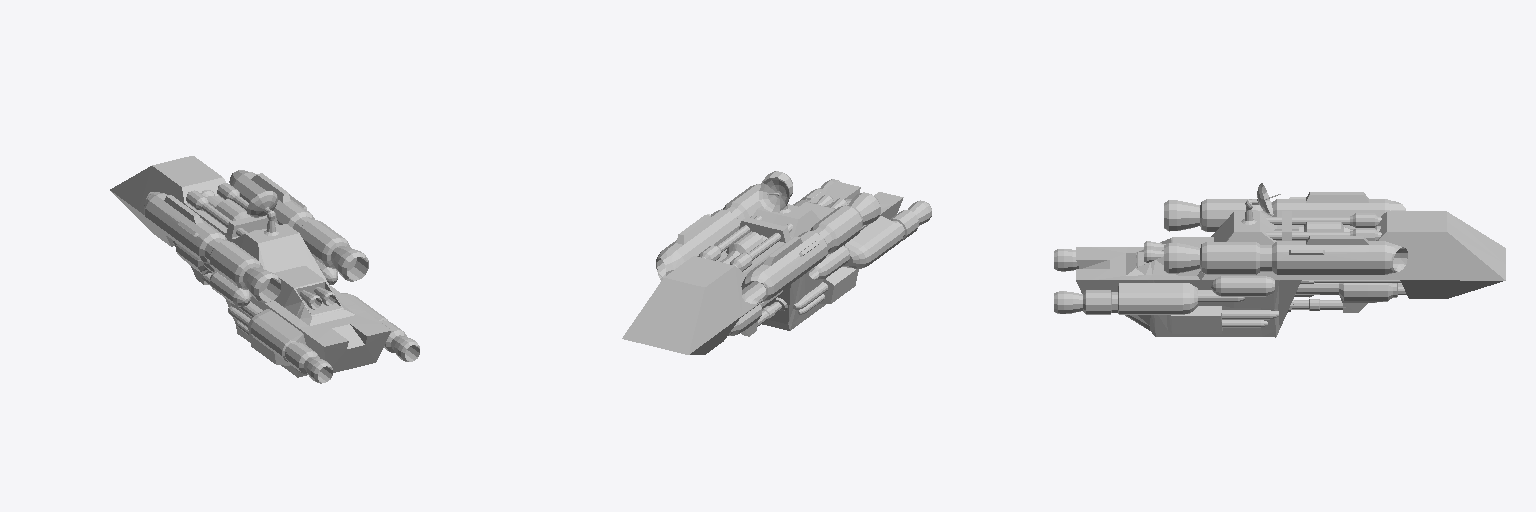
File: XCRXtarsus.obj
3 renders of one model, left to right at view 1: azimuth 30°, elevation 25°; view 2: azimuth 150°, elevation 25°; view 3: azimuth 270°, elevation 25°, orthographic.
Parts seen in each view (by area): view 1: obj.XCRXtarsus.000_Cylinder.001; view 2: obj.XCRXtarsus.000_Cylinder.001; view 3: obj.XCRXtarsus.000_Cylinder.001.
Part boxes in pixels (left/top/right/bottom): obj.XCRXtarsus.000_Cylinder.001: left=110, top=156, right=419, bottom=383; obj.XCRXtarsus.000_Cylinder.001: left=622, top=171, right=931, bottom=354; obj.XCRXtarsus.000_Cylinder.001: left=1054, top=183, right=1505, bottom=337.
Bounding box in the file's own units: 2.75 × 3.24 × 9.26.